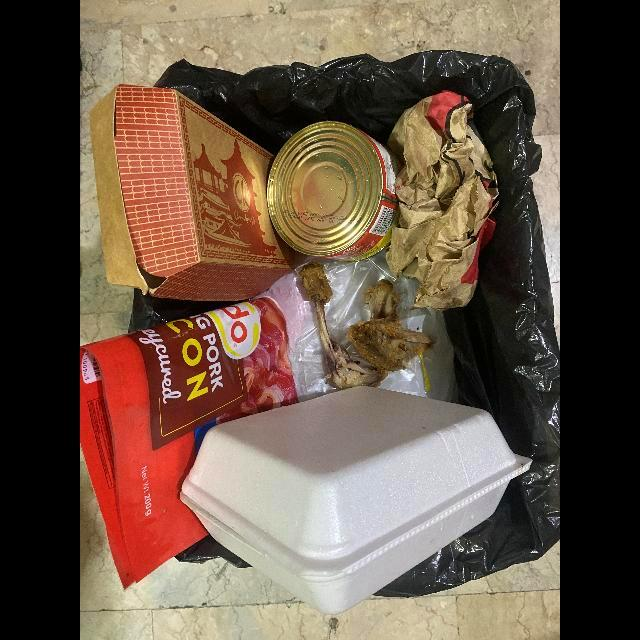aluminum: (267, 121, 403, 263)
cardboard: (90, 85, 295, 301)
food_wrapper: (80, 296, 299, 591)
left_over_food: (295, 260, 435, 388)
paper: (387, 200, 496, 312)
